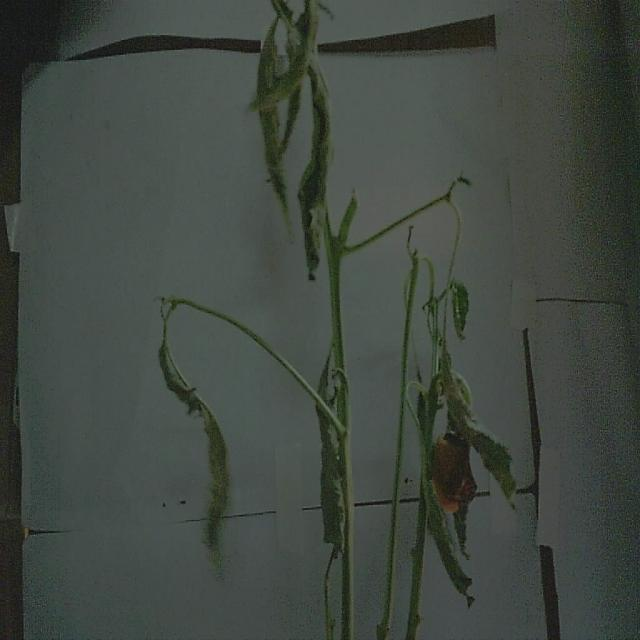Leaf: (414, 418, 481, 608), (296, 34, 334, 278), (192, 392, 230, 576), (158, 306, 198, 408)
